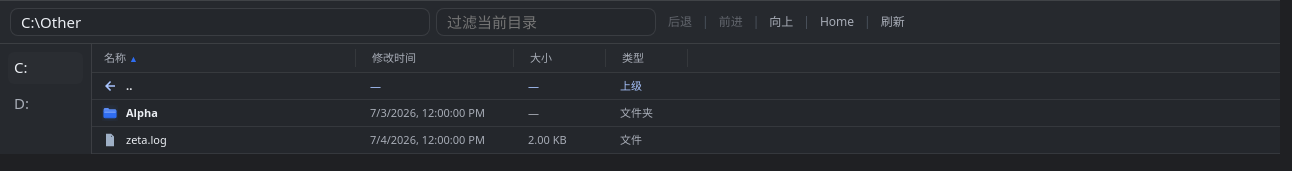
LocalExplorerPanel › navigates Home to the local user home path and refreshes the path input
expect the field named "本地路径" holds "C:\\Other": met, box [10, 8, 430, 36]
What coordinates should you click on to do the following:
click the button with test id "local-explorer-home"
I would click on:
 (837, 22)
Its box is [814, 8, 860, 36].
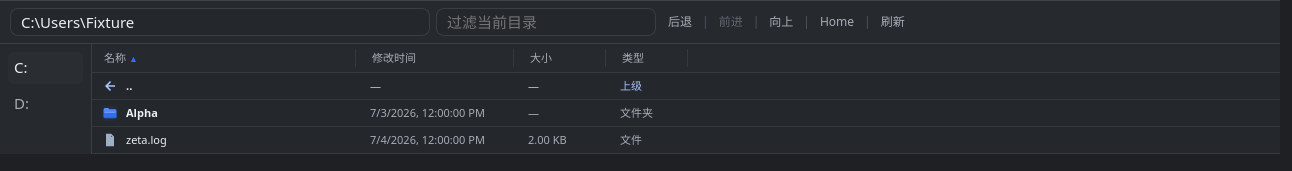
expect the field named "本地路径" holds "C:\\Users\\Fixture": met, box [10, 8, 430, 36]
